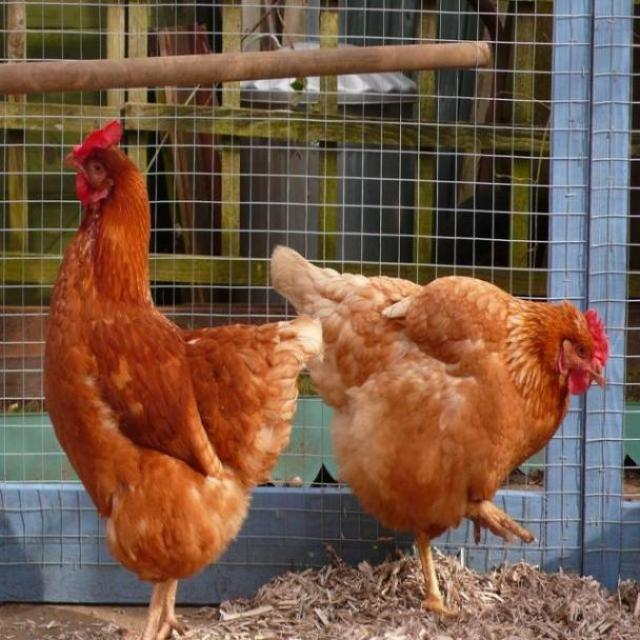Chicken: (48, 108, 321, 639), (265, 240, 617, 618)
